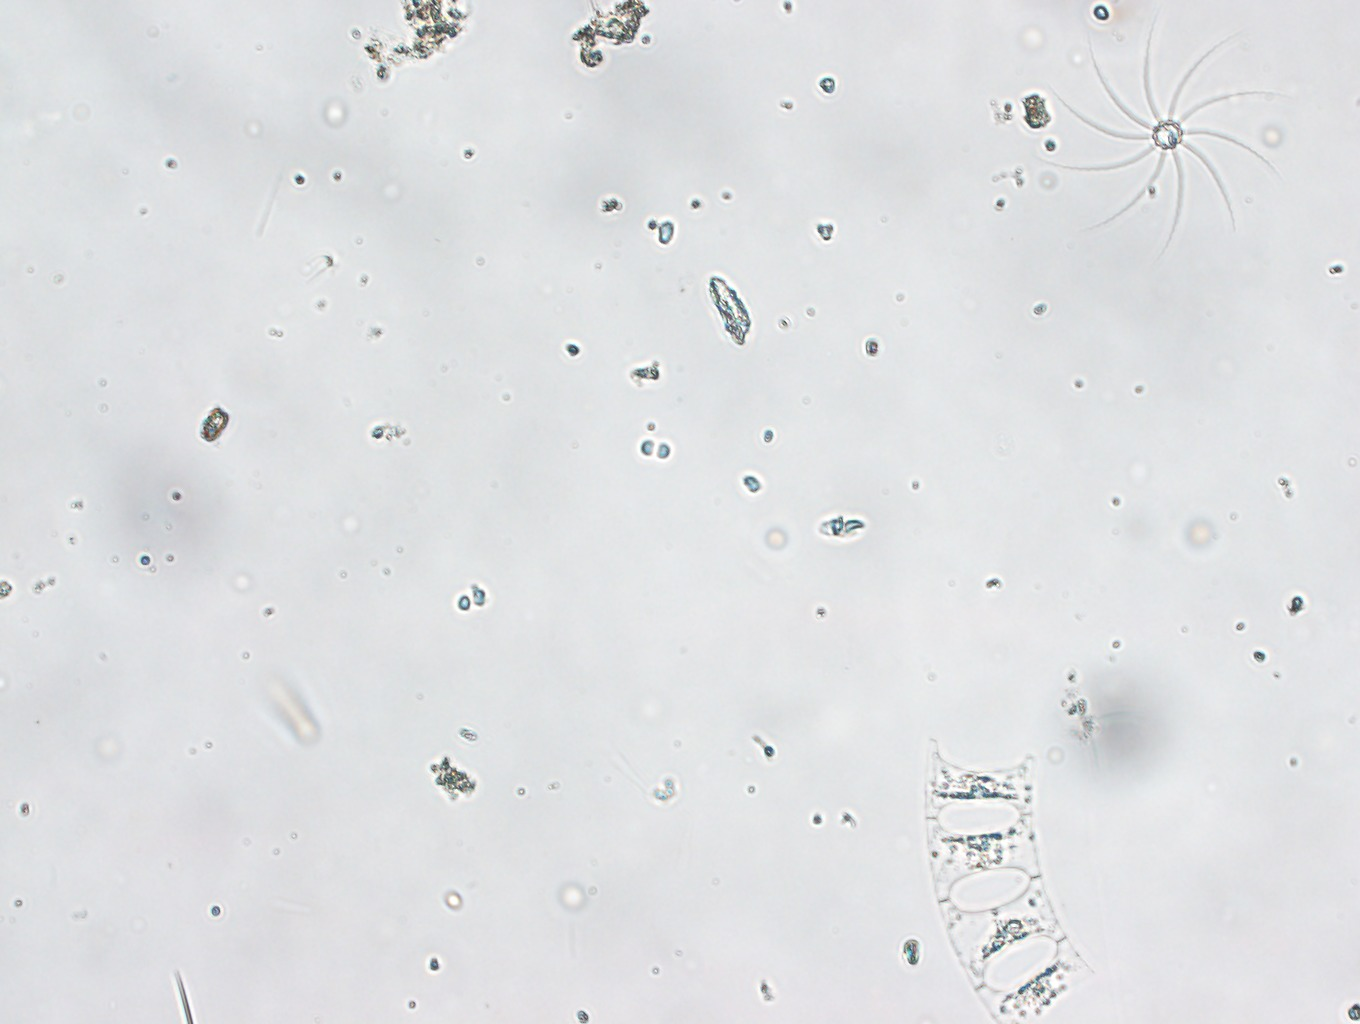bacteriastrum: (1051, 14, 1307, 259)
eucampia: (917, 723, 1087, 1024)
